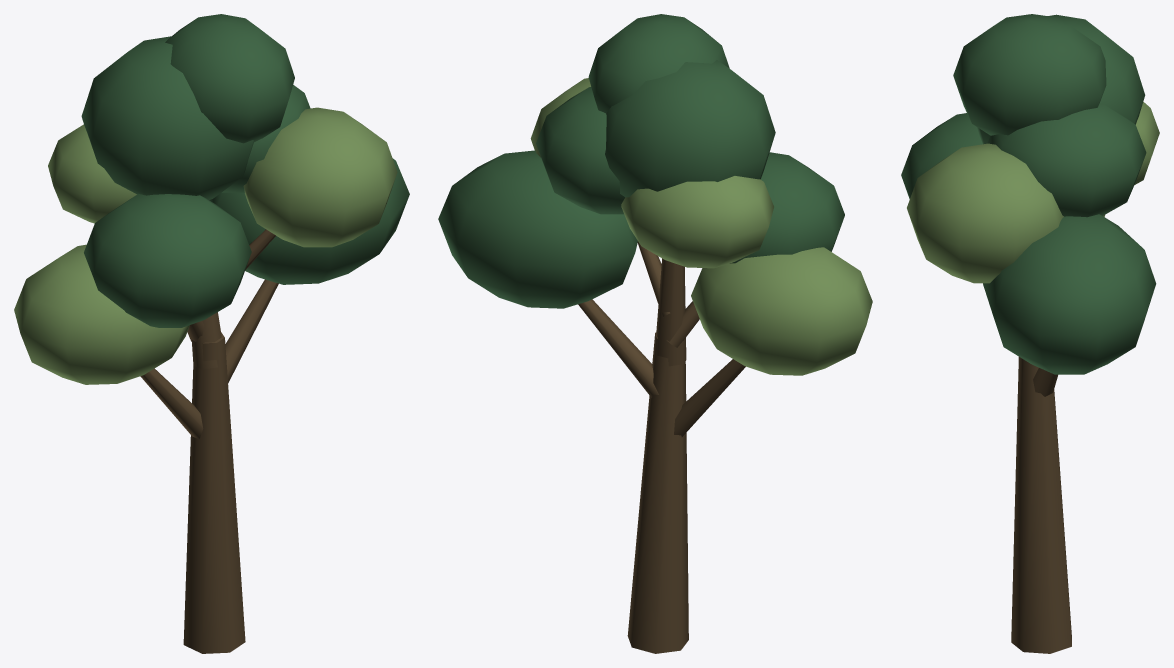
Rendered from citadelElderTree.glb.
3 renders of one model, left to right at view 1: azimuth 30°, elevation 25°; view 2: azimuth 150°, elevation 25°; view 3: azimuth 270°, elevation 25°, orthographic.
Visible parts, largest first — view 1: citadel-elder-tree-crown.001, citadel-elder-tree-crown.004, citadel-elder-tree-crown.003, citadel-elder-tree-trunk, citadel-elder-tree-crown, citadel-elder-tree-crown.007, citadel-elder-tree-crown.002, citadel-elder-tree-crown.006, citadel-elder-tree-branch.001, citadel-elder-tree-branch, citadel-elder-tree-crown.005, citadel-elder-tree-trunk.001; view 2: citadel-elder-tree-crown.002, citadel-elder-tree-crown, citadel-elder-tree-crown.004, citadel-elder-tree-trunk, citadel-elder-tree-crown.006, citadel-elder-tree-crown.007, citadel-elder-tree-crown.005, citadel-elder-tree-crown.001, citadel-elder-tree-trunk.001, citadel-elder-tree-branch.001, citadel-elder-tree-branch, citadel-elder-tree-crown.003 (+1 smaller); view 3: citadel-elder-tree-crown.002, citadel-elder-tree-crown.003, citadel-elder-tree-crown.007, citadel-elder-tree-trunk, citadel-elder-tree-crown.005, citadel-elder-tree-crown.004, citadel-elder-tree-crown.001, citadel-elder-tree-crown.006, citadel-elder-tree-branch.001.
Part boxes in pixels (x1,y1,x2,y2): citadel-elder-tree-crown.001: [84, 194, 251, 327]; citadel-elder-tree-crown.004: [81, 36, 253, 199]; citadel-elder-tree-crown.003: [243, 107, 397, 247]; citadel-elder-tree-trunk: [183, 332, 245, 653]; citadel-elder-tree-crown: [14, 244, 189, 384]; citadel-elder-tree-crown.007: [165, 14, 294, 143]; citadel-elder-tree-crown.002: [209, 158, 409, 284]; citadel-elder-tree-crown.006: [48, 124, 136, 223]; citadel-elder-tree-branch.001: [225, 279, 278, 383]; citadel-elder-tree-branch: [140, 368, 203, 439]; citadel-elder-tree-crown.005: [222, 85, 310, 192]; citadel-elder-tree-trunk.001: [191, 312, 221, 369]; citadel-elder-tree-crown.002: [438, 150, 637, 308]; citadel-elder-tree-crown: [691, 247, 872, 375]; citadel-elder-tree-crown.004: [605, 60, 775, 197]; citadel-elder-tree-trunk: [627, 332, 688, 653]; citadel-elder-tree-crown.006: [621, 176, 773, 268]; citadel-elder-tree-crown.007: [588, 14, 729, 113]; citadel-elder-tree-crown.005: [536, 87, 624, 214]; citadel-elder-tree-crown.001: [730, 152, 844, 263]; citadel-elder-tree-trunk.001: [656, 258, 686, 366]; citadel-elder-tree-branch.001: [578, 299, 658, 397]; citadel-elder-tree-branch: [674, 359, 745, 436]; citadel-elder-tree-crown.003: [530, 78, 590, 157]; citadel-elder-tree-crown.002: [983, 214, 1156, 374]; citadel-elder-tree-crown.003: [907, 143, 1063, 283]; citadel-elder-tree-crown.007: [953, 14, 1106, 135]; citadel-elder-tree-trunk: [1011, 357, 1071, 653]; citadel-elder-tree-crown.005: [987, 103, 1146, 217]; citadel-elder-tree-crown.004: [977, 14, 1145, 144]; citadel-elder-tree-crown.001: [901, 113, 982, 198]; citadel-elder-tree-crown.006: [1134, 102, 1159, 184]; citadel-elder-tree-branch.001: [1033, 368, 1057, 396].
Bounding box in the file's own units: 9.38 × 14.06 × 5.29.
